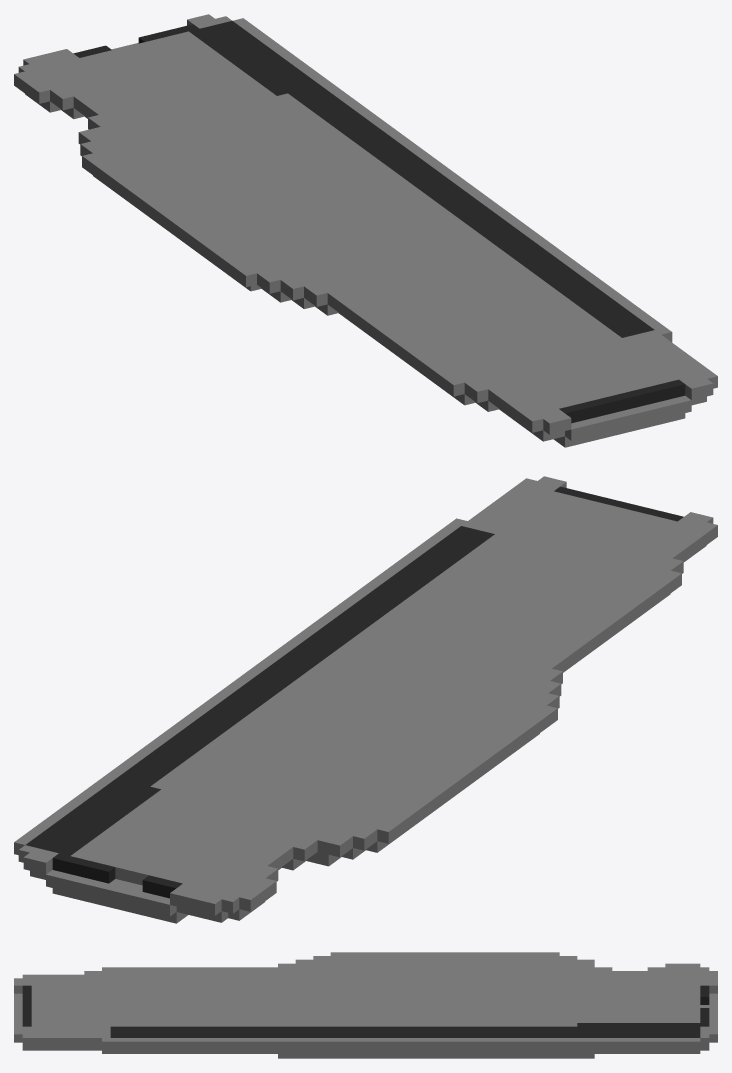
The model's file is Extra-12-DualStriker_BottomShell_L.obj.
The picture shows the model from 3 angles, top to bottom: view 1: azimuth 30°, elevation 25°; view 2: azimuth 150°, elevation 25°; view 3: azimuth 270°, elevation 25°; orthographic projection. The views are drawn at different scales.
Parts seen in each view (by area): view 1: DualStriker_BottomShell_L; view 2: DualStriker_BottomShell_L; view 3: DualStriker_BottomShell_L.
Boxes of the visible parts, x1=… form: DualStriker_BottomShell_L: x1=14, y1=14, x2=717, y2=447; DualStriker_BottomShell_L: x1=14, y1=476, x2=717, y2=923; DualStriker_BottomShell_L: x1=14, y1=952, x2=717, y2=1058.
Size of the model in its own units: 2.4 by 0.4 by 8.
Materials: 1 (1 with a texture image).
